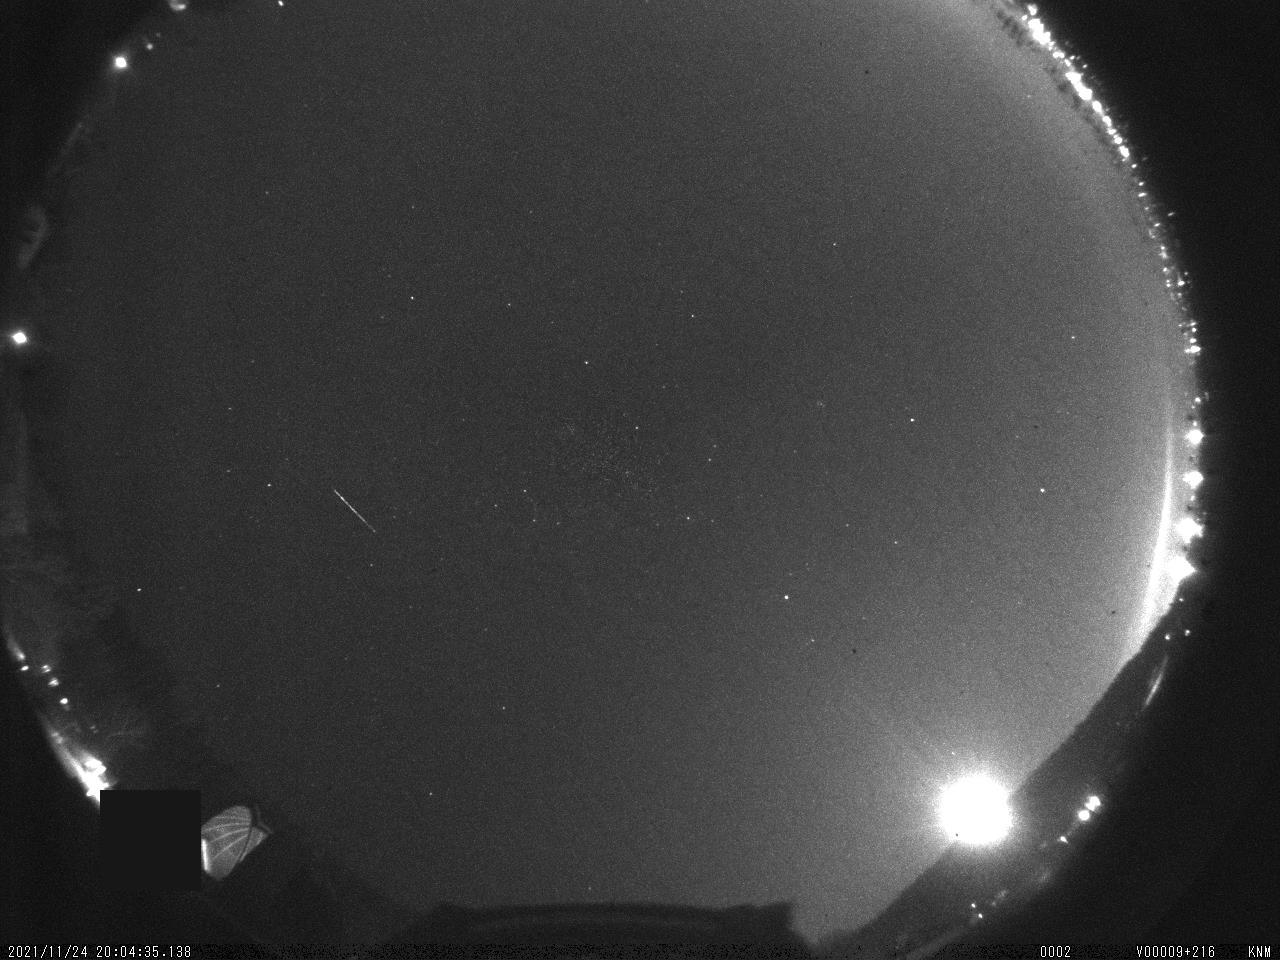meteor: (330, 477, 386, 543)
